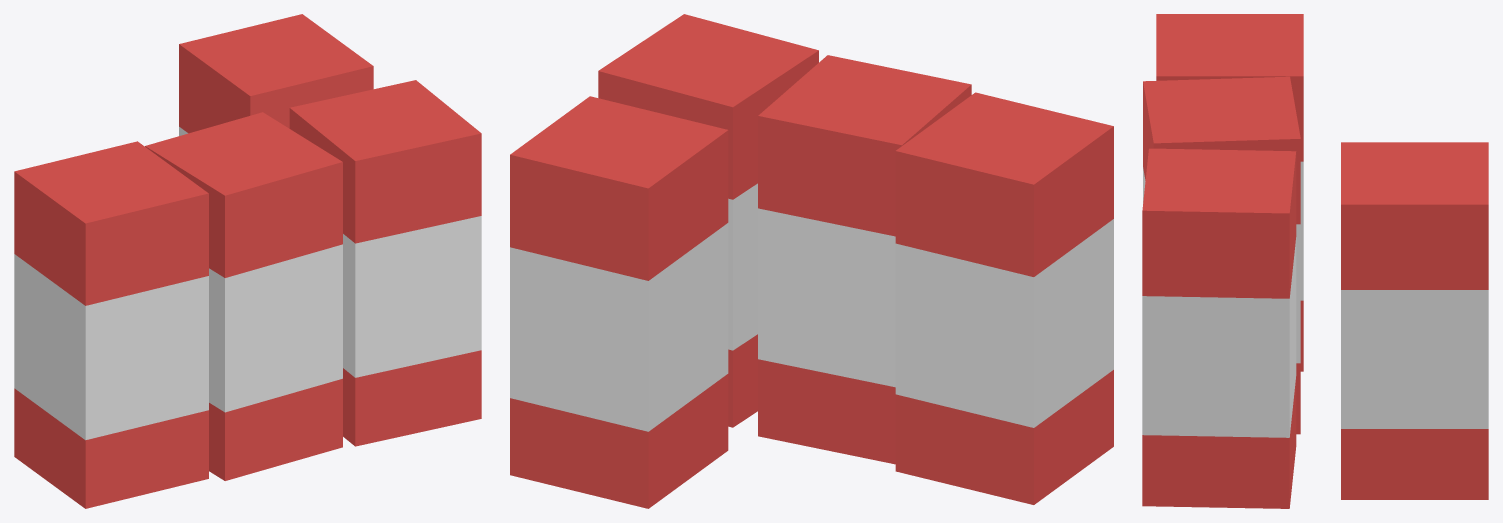
The model's file is ShelfItem.glb.
3 views of the same model, side by side, from view 1: azimuth 30°, elevation 25°; view 2: azimuth 150°, elevation 25°; view 3: azimuth 270°, elevation 25° (orthographic). The views are drawn at different scales.
Parts seen in each view (by area): view 1: SI_Prop_ShelfItem_01; view 2: SI_Prop_ShelfItem_01; view 3: SI_Prop_ShelfItem_01.
Boxes of the visible parts, bbox=[...] form: SI_Prop_ShelfItem_01: bbox=[14, 14, 481, 508]; SI_Prop_ShelfItem_01: bbox=[510, 14, 1113, 508]; SI_Prop_ShelfItem_01: bbox=[1142, 14, 1488, 508].
Bounding box in the file's own units: 0.0101 × 0.00695 × 0.00737.
Materials: 1 (1 with a texture image).
